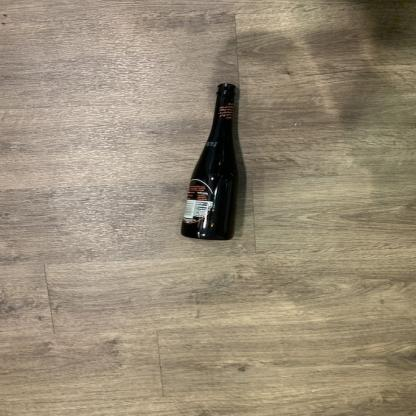trash: (177, 78, 246, 247)
